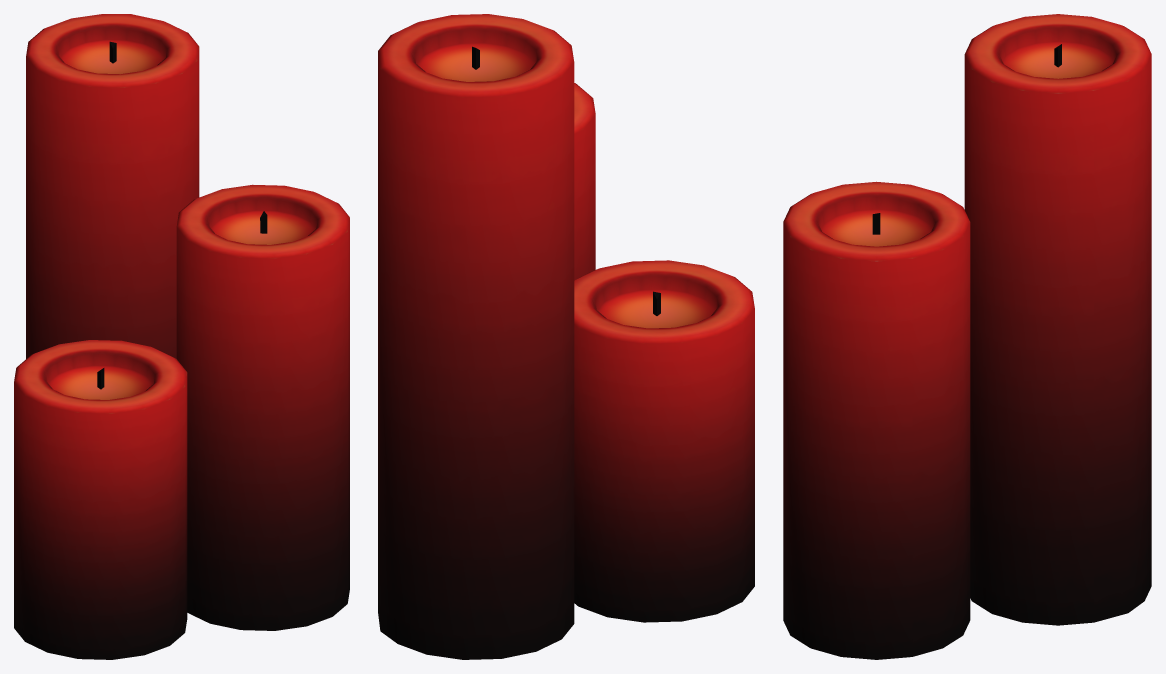
Rendered from Candles.fbx.
The picture shows the model from 3 angles, left to right: view 1: azimuth 30°, elevation 25°; view 2: azimuth 150°, elevation 25°; view 3: azimuth 270°, elevation 25°; orthographic projection. The views are drawn at different scales.
Visible parts, largest first — view 1: Candles; view 2: Candles; view 3: Candles.
Boxes of the visible parts, x1=… form: Candles: x1=14, y1=14, x2=349, y2=659; Candles: x1=378, y1=14, x2=754, y2=659; Candles: x1=783, y1=14, x2=1151, y2=659.
Bounding box in the file's own units: 0.00146 × 0.00233 × 0.00144.
